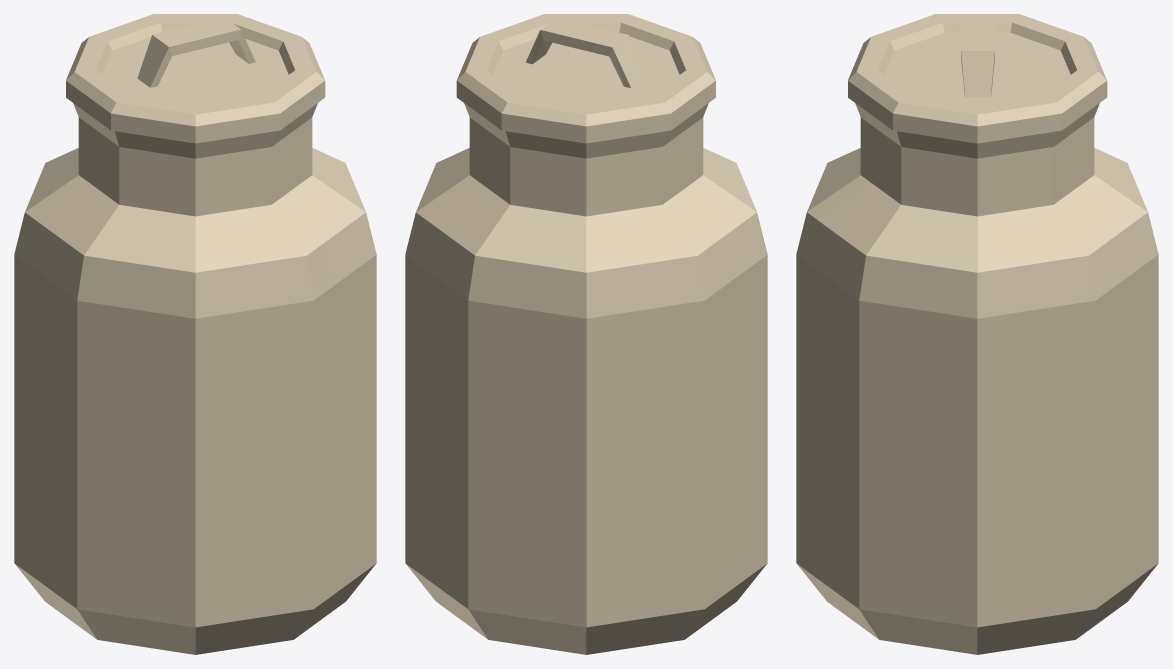
Rendered from milktank_a.gltf.
3 views of the same model, side by side, from view 1: azimuth 30°, elevation 25°; view 2: azimuth 150°, elevation 25°; view 3: azimuth 270°, elevation 25° (orthographic).
Parts seen in each view (by area): view 1: milktank_a001; view 2: milktank_a001; view 3: milktank_a001.
Boxes of the visible parts, x1,y1,x2,y2 form: milktank_a001: (14,14,376,654); milktank_a001: (405,14,767,654); milktank_a001: (796,14,1158,654).
Bounding box in the file's own units: 0.4296 × 0.7408 × 0.4362.
Materials: 1 (1 with a texture image).
